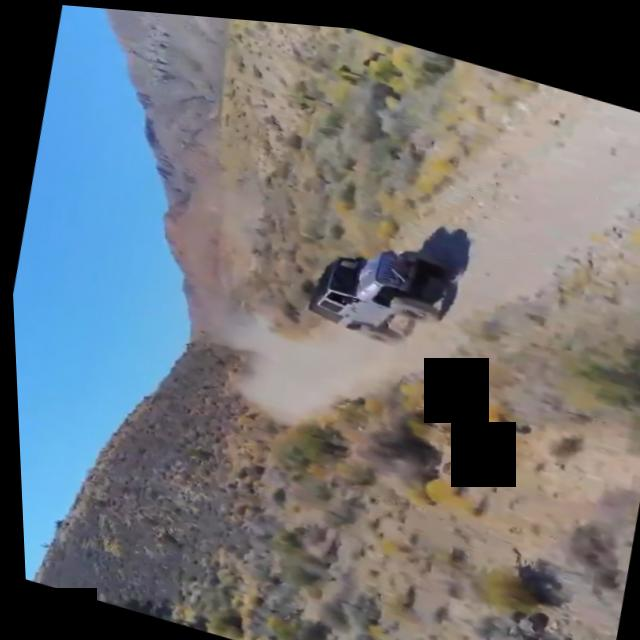Vehicle: (295, 217, 453, 355)
